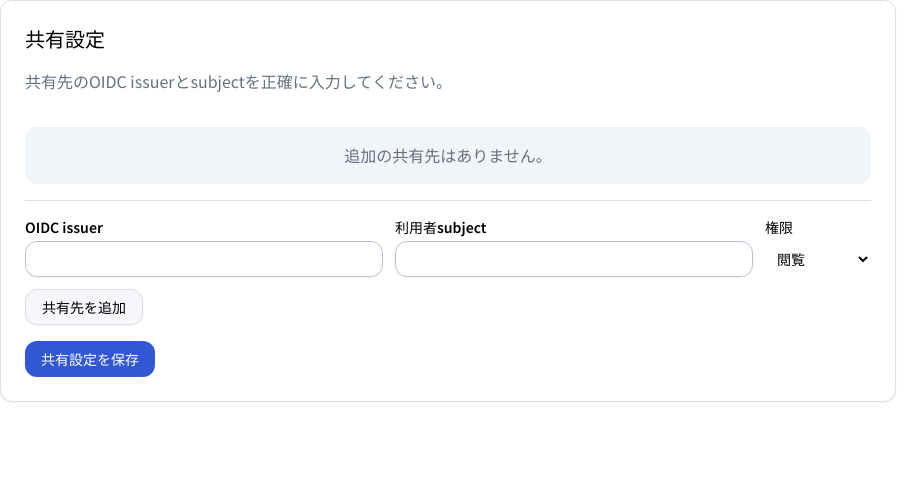
Scenario: revision競合時は再読み込みを案内する
Click the button "共有設定を保存" at point(90, 359), box [25,341,155,377]
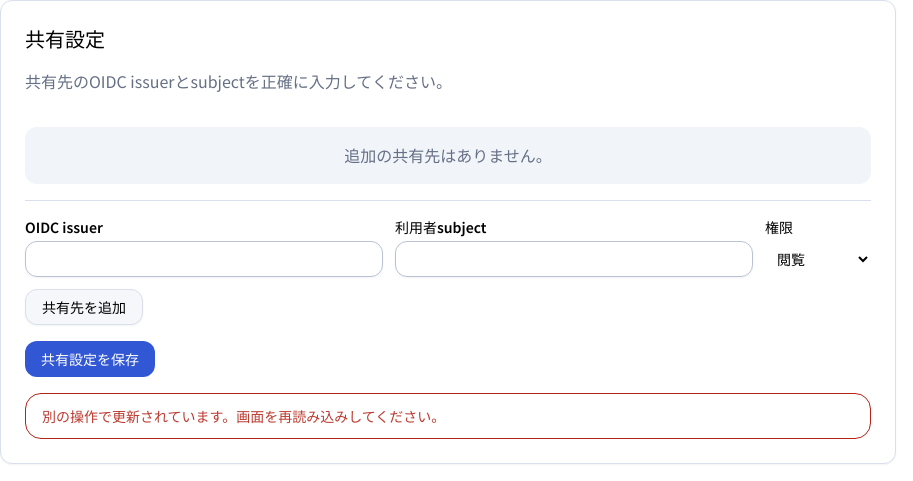
Result: the message "別の操作で更新されています。画面を再読み込みしてください。" is shown at [25,393,871,439]
